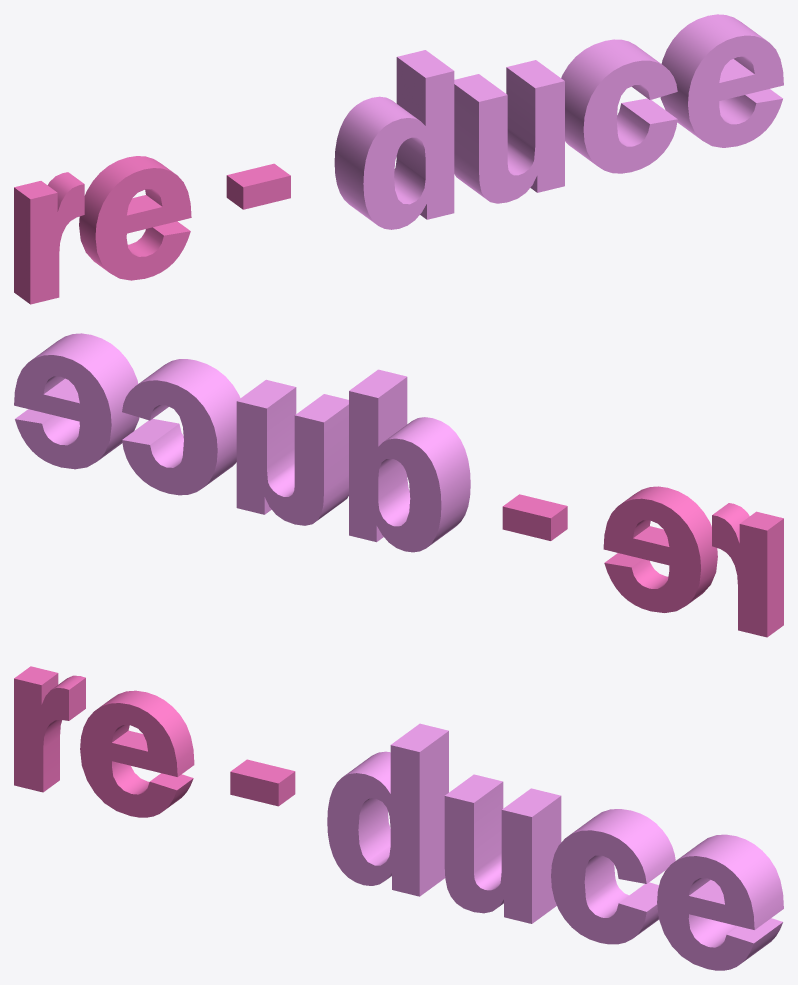
Rendered from Reduce.gltf.
3 renders of one model, top to bottom at view 1: azimuth 30°, elevation 25°; view 2: azimuth 150°, elevation 25°; view 3: azimuth 330°, elevation 25°, orthographic.
Parts seen in each view (by area): view 1: re__duce1; view 2: re__duce1; view 3: re__duce1.
Part boxes in pixels (<box>): re__duce1: <box>14,14,783,304</box>; re__duce1: <box>14,333,783,637</box>; re__duce1: <box>14,666,783,970</box>.
Bounding box in the file's own units: 25.96 × 4.83 × 1.75.
